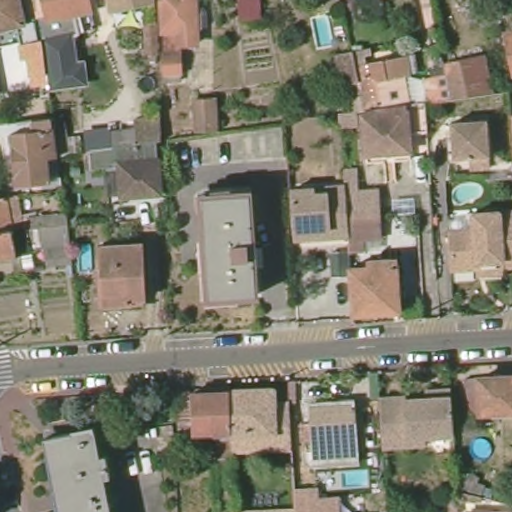pool: (308, 11, 338, 51), (338, 461, 375, 490), (450, 180, 487, 209), (73, 240, 95, 274), (388, 195, 418, 217), (468, 436, 495, 460)
